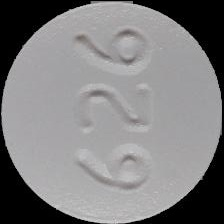68151-1977: (0, 0, 224, 224)
